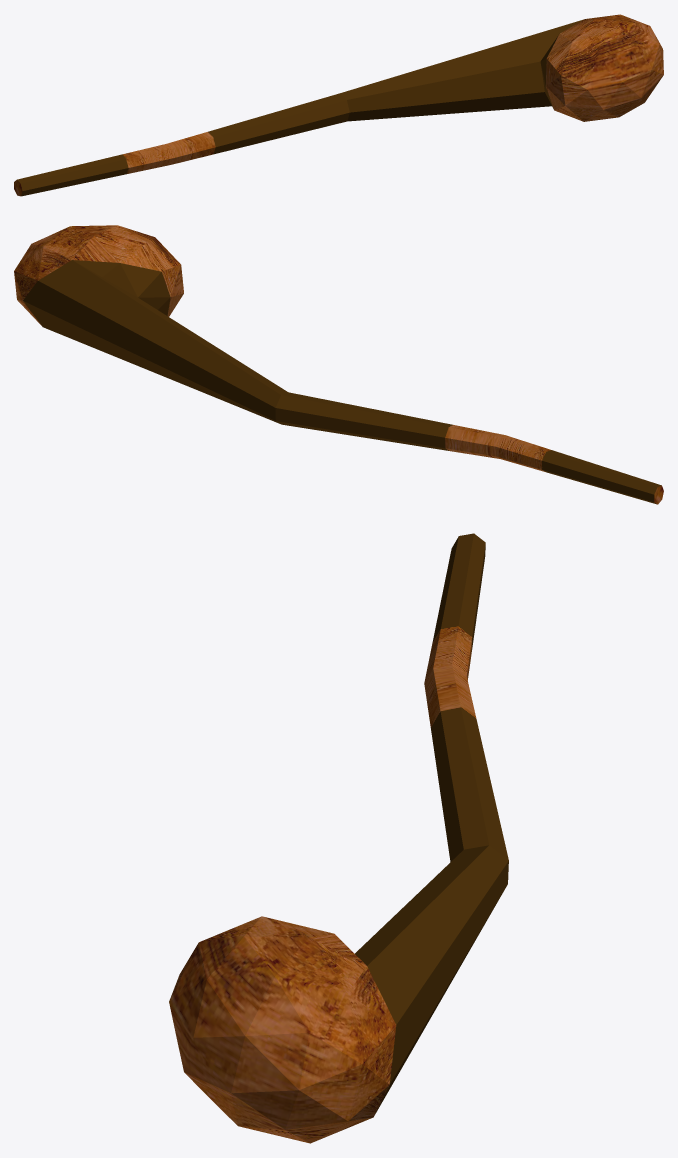
Rendered from WorldItem_Shillelagh.fbx.
3 views of the same model, one above another, from view 1: azimuth 30°, elevation 25°; view 2: azimuth 150°, elevation 25°; view 3: azimuth 270°, elevation 25° (orthographic). The views are drawn at different scales.
Parts seen in each view (by area): view 1: ZomboidShillelagh; view 2: ZomboidShillelagh; view 3: ZomboidShillelagh.
Part boxes in pixels (x1,y1,x2,y2): ZomboidShillelagh: (14,14,663,196); ZomboidShillelagh: (14,225,663,504); ZomboidShillelagh: (169,533,508,1143).
Bounding box in the file's own units: 0.4605 × 0.0665 × 0.1125.
